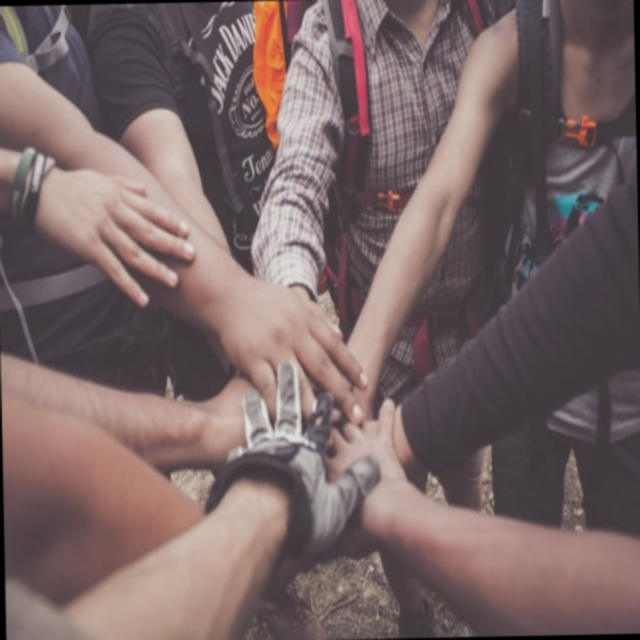foam_scum: (0, 9, 338, 340), (348, 39, 498, 379), (343, 402, 486, 536)
turbid_water: (13, 13, 627, 627), (0, 33, 514, 640)
